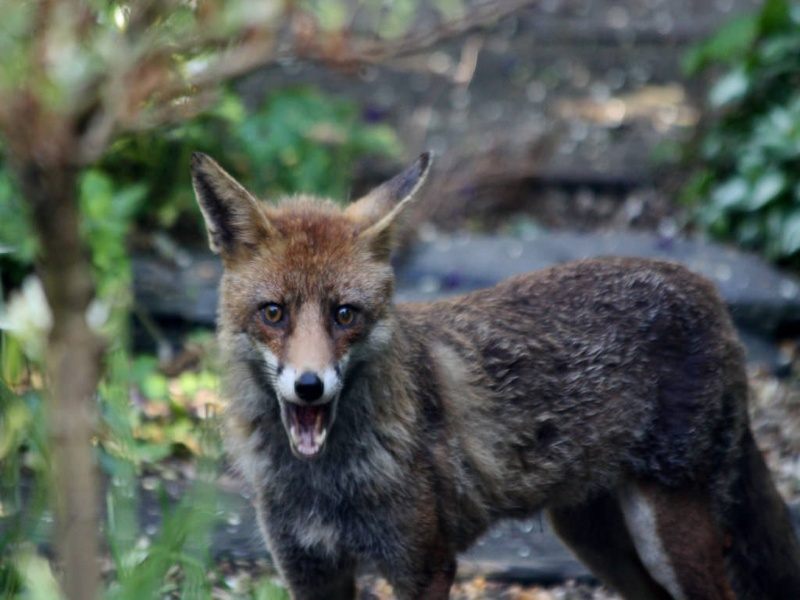fox: (184, 152, 792, 587)
